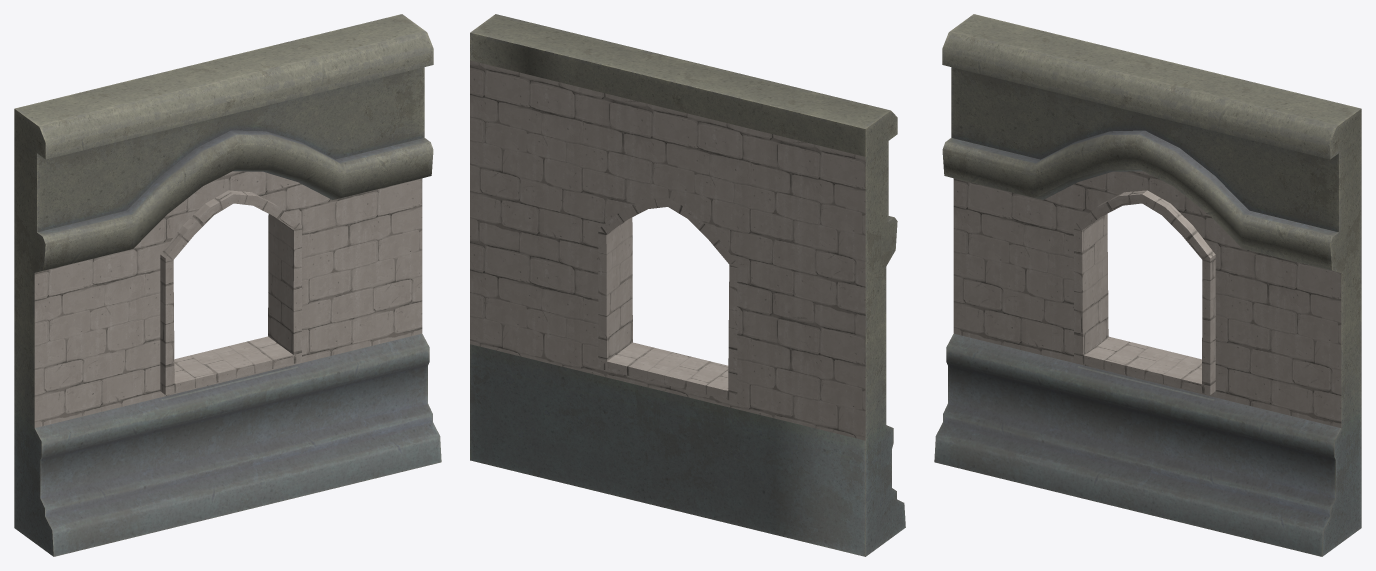
File: AD_Wall_E_01.fbx
3 views of the same model, side by side, from view 1: azimuth 30°, elevation 25°; view 2: azimuth 150°, elevation 25°; view 3: azimuth 330°, elevation 25° (orthographic).
Visible parts, largest first — view 1: AD_Wall_E_01; view 2: AD_Wall_E_01; view 3: AD_Wall_E_01.
Part boxes in pixels (<box>): AD_Wall_E_01: <box>14,14,441,556</box>; AD_Wall_E_01: <box>470,14,905,556</box>; AD_Wall_E_01: <box>934,14,1361,556</box>.
Size of the model in its own units: 743 by 768 by 131.
2 materials, 2 textured.
